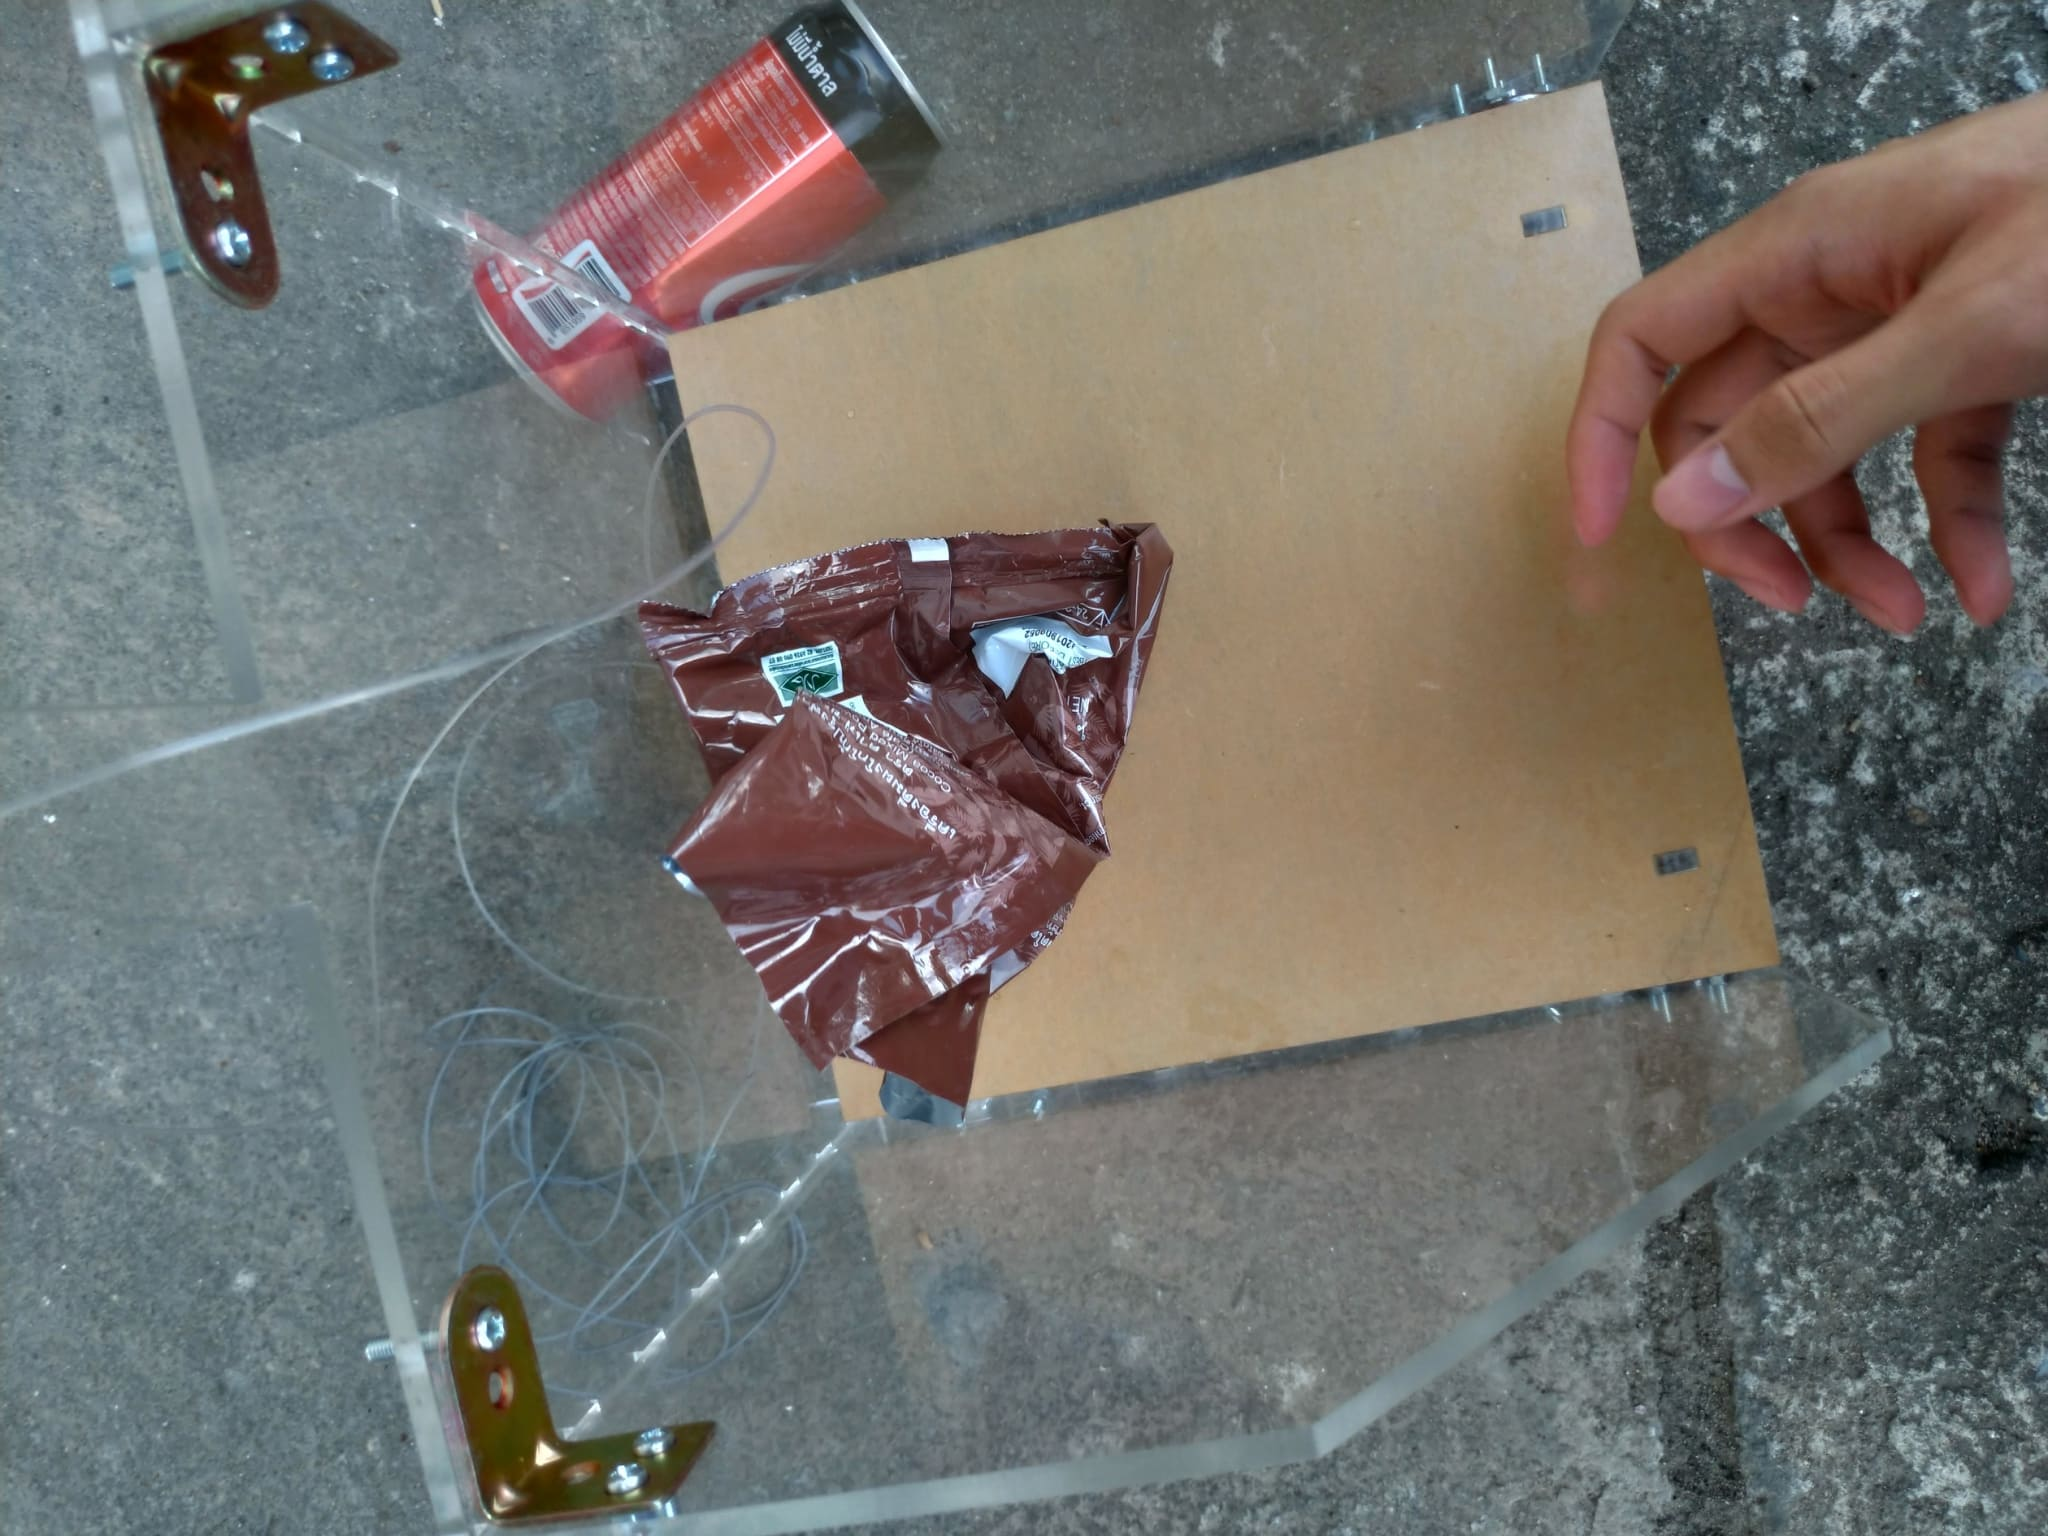AlCan: (469, 19, 953, 426)
Others: (631, 510, 1164, 1104)
